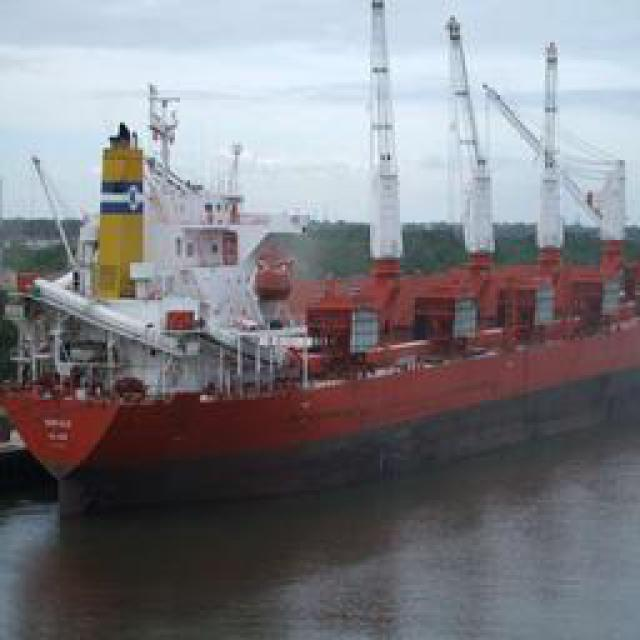Ship: (8, 1, 636, 506)
